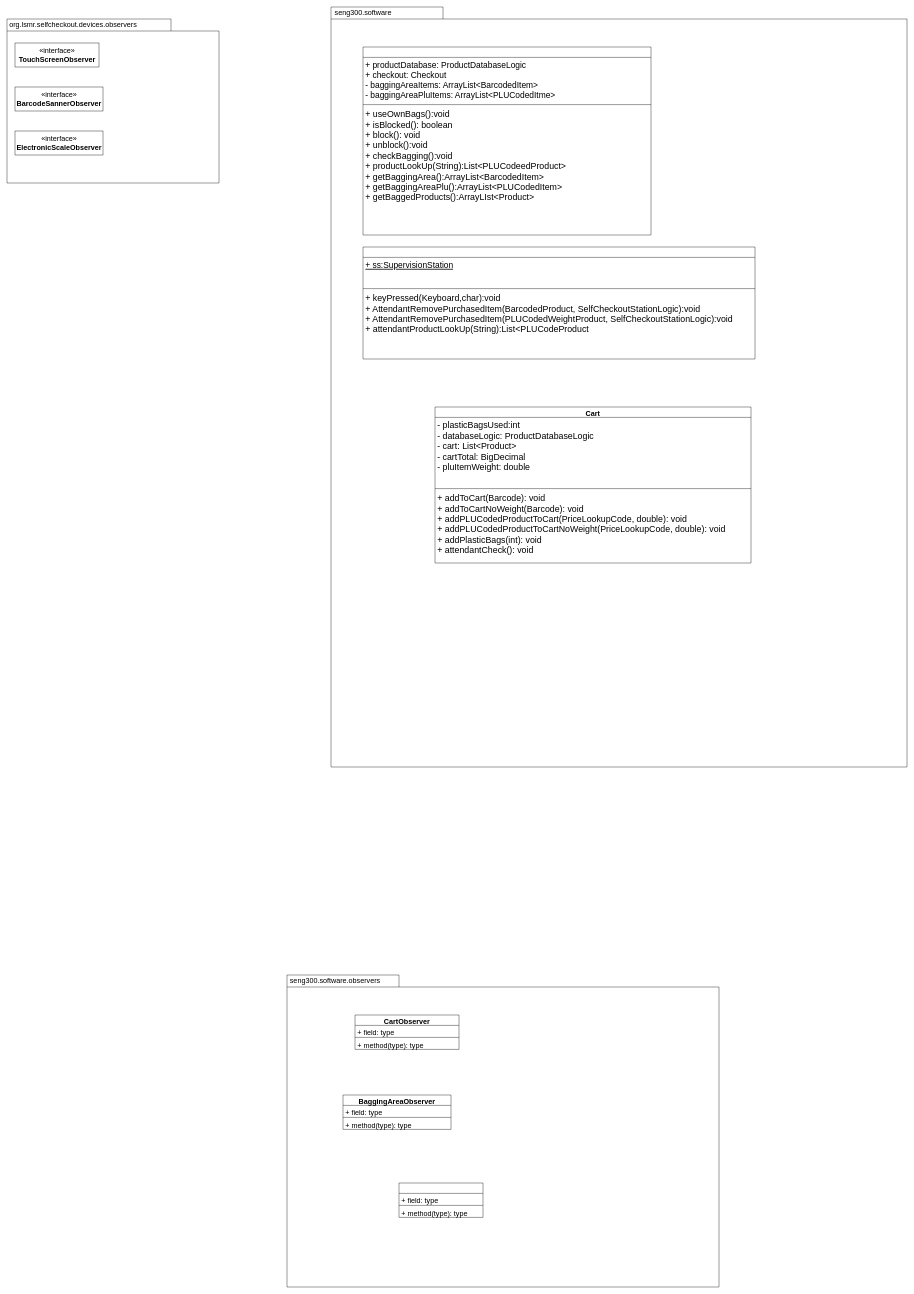
The diagram is 914 pixels wide and 1294 high, and some of its shapes have lost their labels. Here are the shapes that lost their labels. From the top down, the box of each, then its label:
(363, 47, 651, 235): SelfCheckoutSytemLogic
(363, 247, 755, 359): AttendantLogic
(399, 1183, 483, 1217): ScannerObserver
